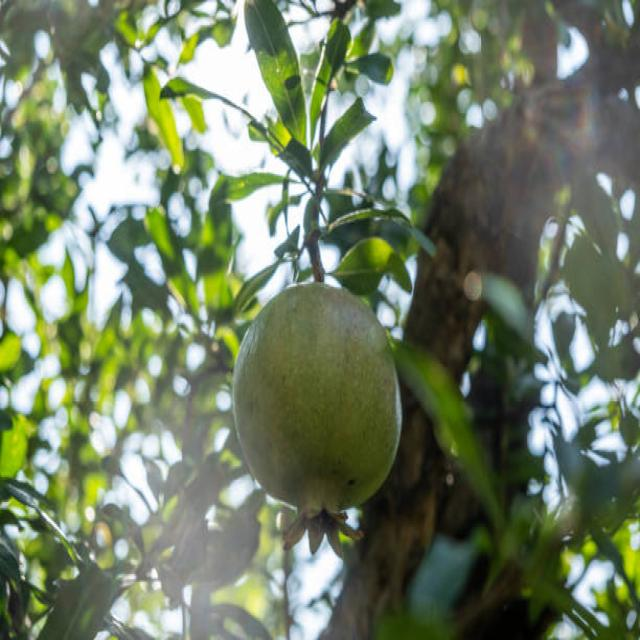Unripe: (236, 282, 404, 558)
